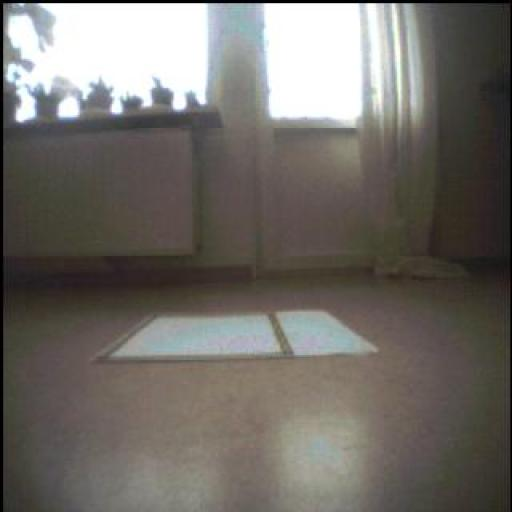Pad: (87, 298, 382, 358)
